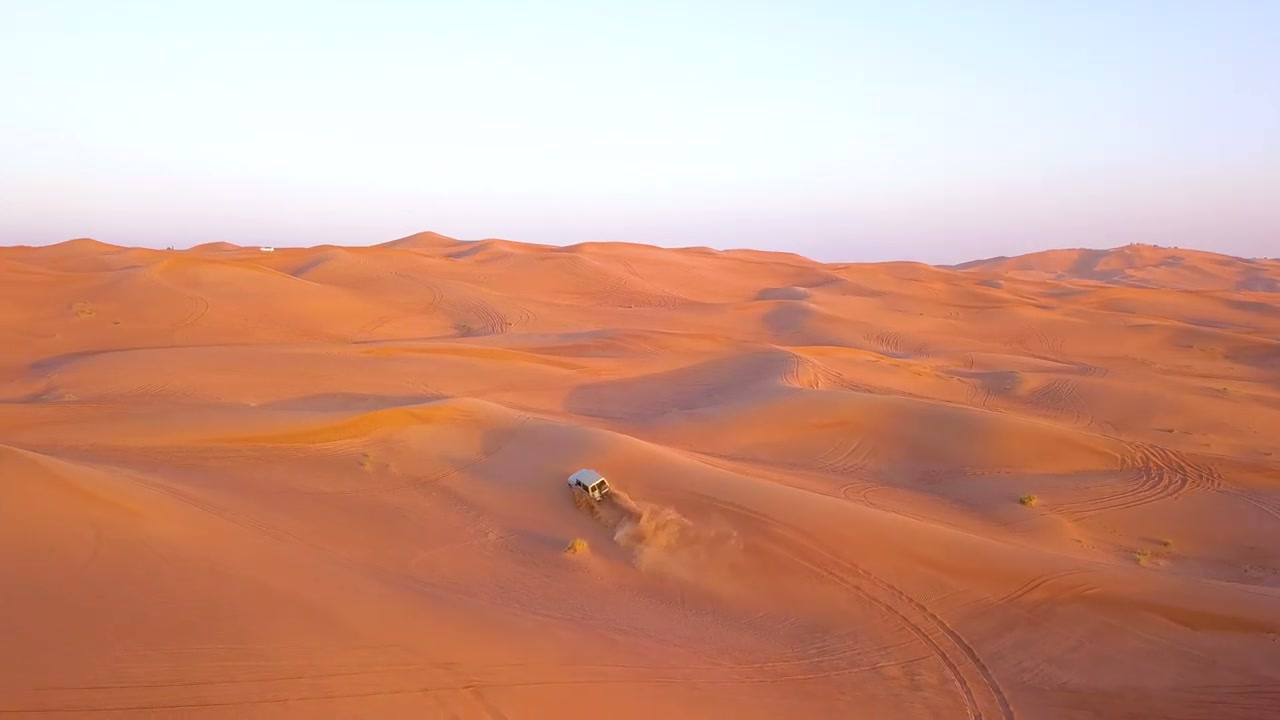vehicle_track: (697, 493, 1013, 719), (298, 415, 530, 495), (1058, 441, 1221, 518), (1010, 326, 1106, 376), (783, 351, 873, 392), (1024, 378, 1095, 427), (389, 270, 443, 312)
